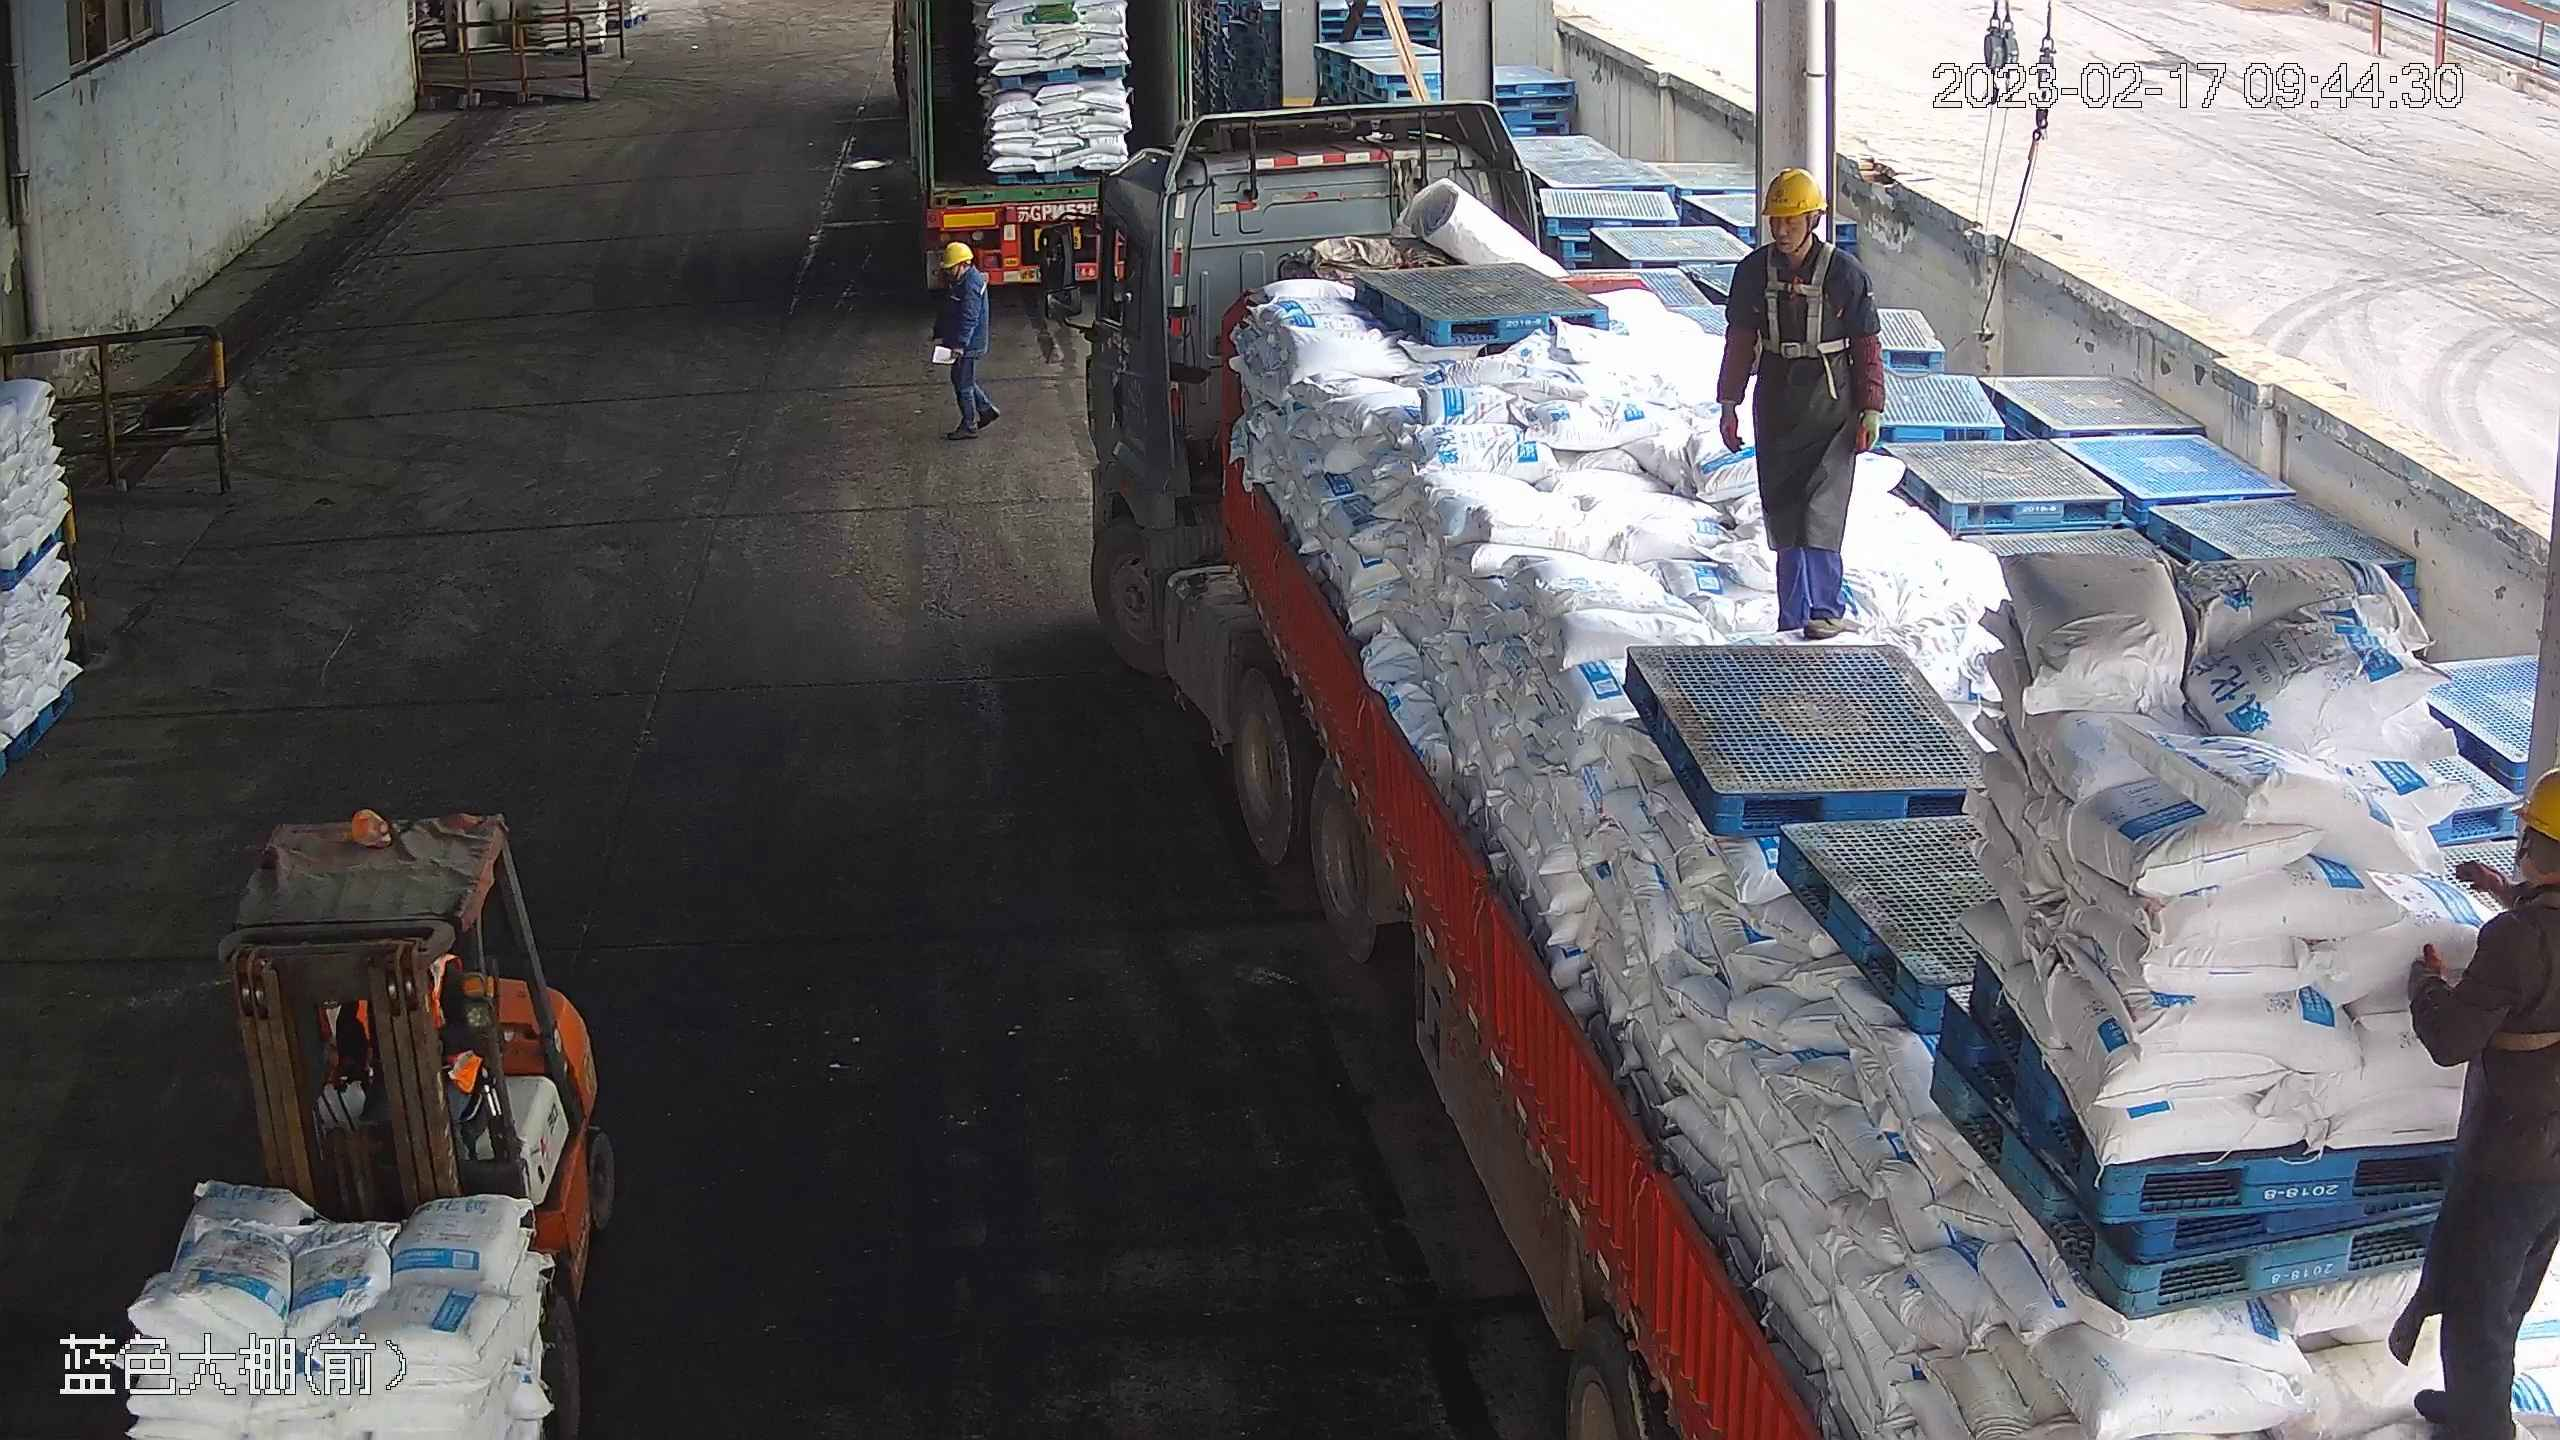belt: (1753, 237, 1849, 360)
head: (2431, 757, 2556, 1012), (1727, 165, 1875, 301), (935, 240, 990, 298)
helmet: (2513, 757, 2560, 844), (1758, 166, 1831, 218), (941, 240, 972, 262)
people: (2399, 760, 2556, 1440), (1715, 162, 1886, 636), (926, 235, 999, 445)
truck: (1089, 91, 2557, 1440), (880, 1, 1209, 279)
